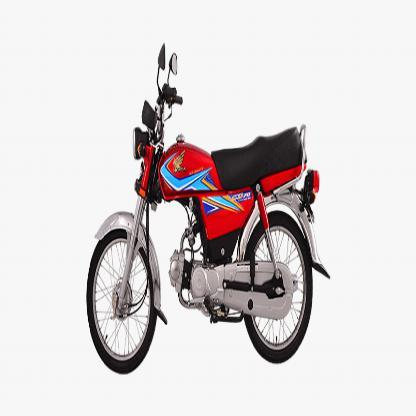Motorcycle: (79, 36, 333, 380)
